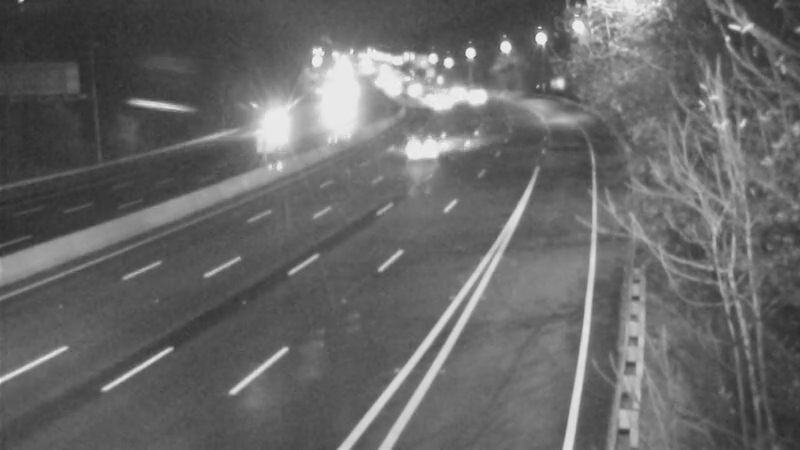vehicle: (446, 70, 496, 120), (413, 77, 463, 127), (402, 119, 452, 169), (250, 103, 300, 153)
